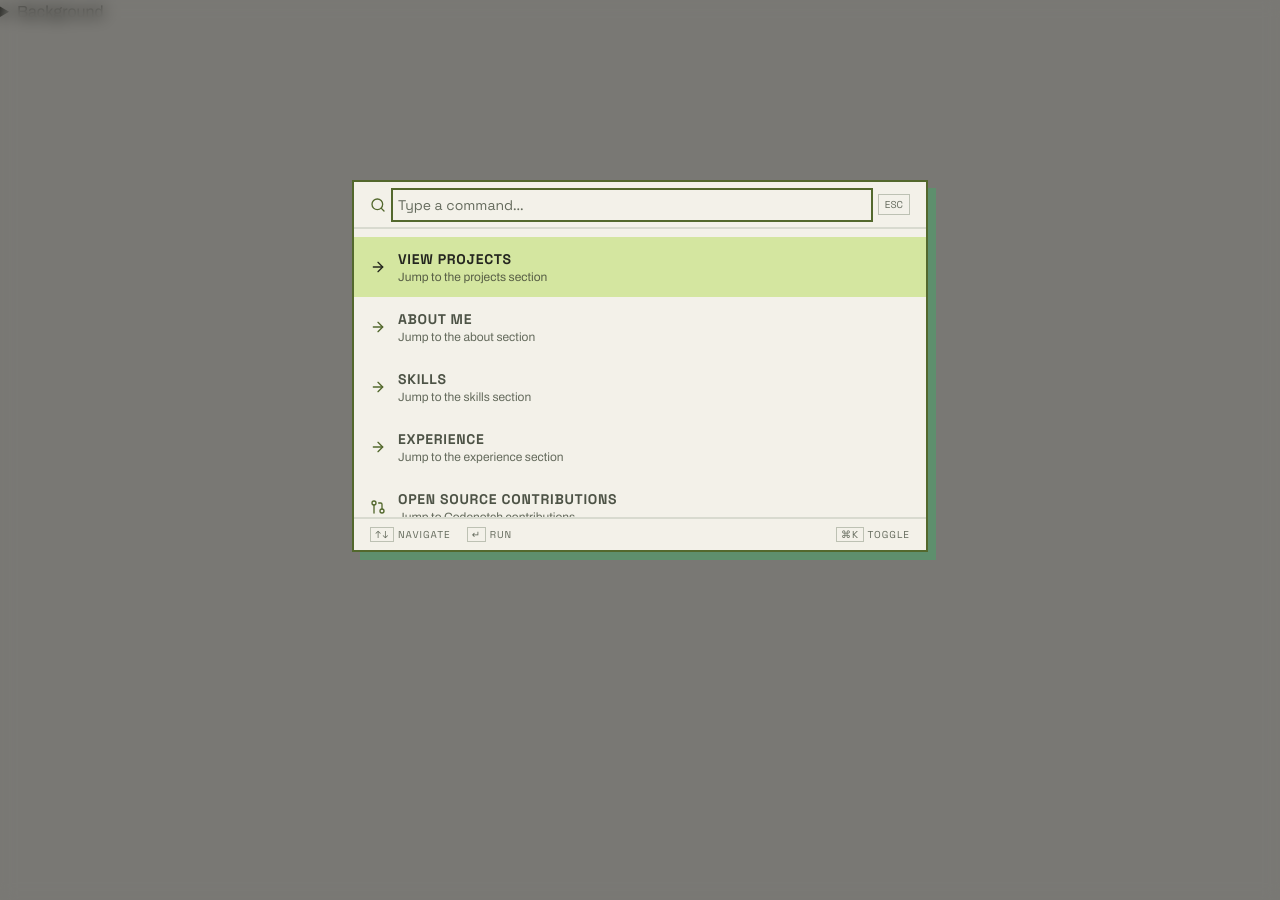
reveals background details through the shared section navigation
The width and height of the screenshot is (1280, 900).
Click the option "Open Source Contributions Jump to Codenotch contributions" at (494, 507), box [370,490,617,524]
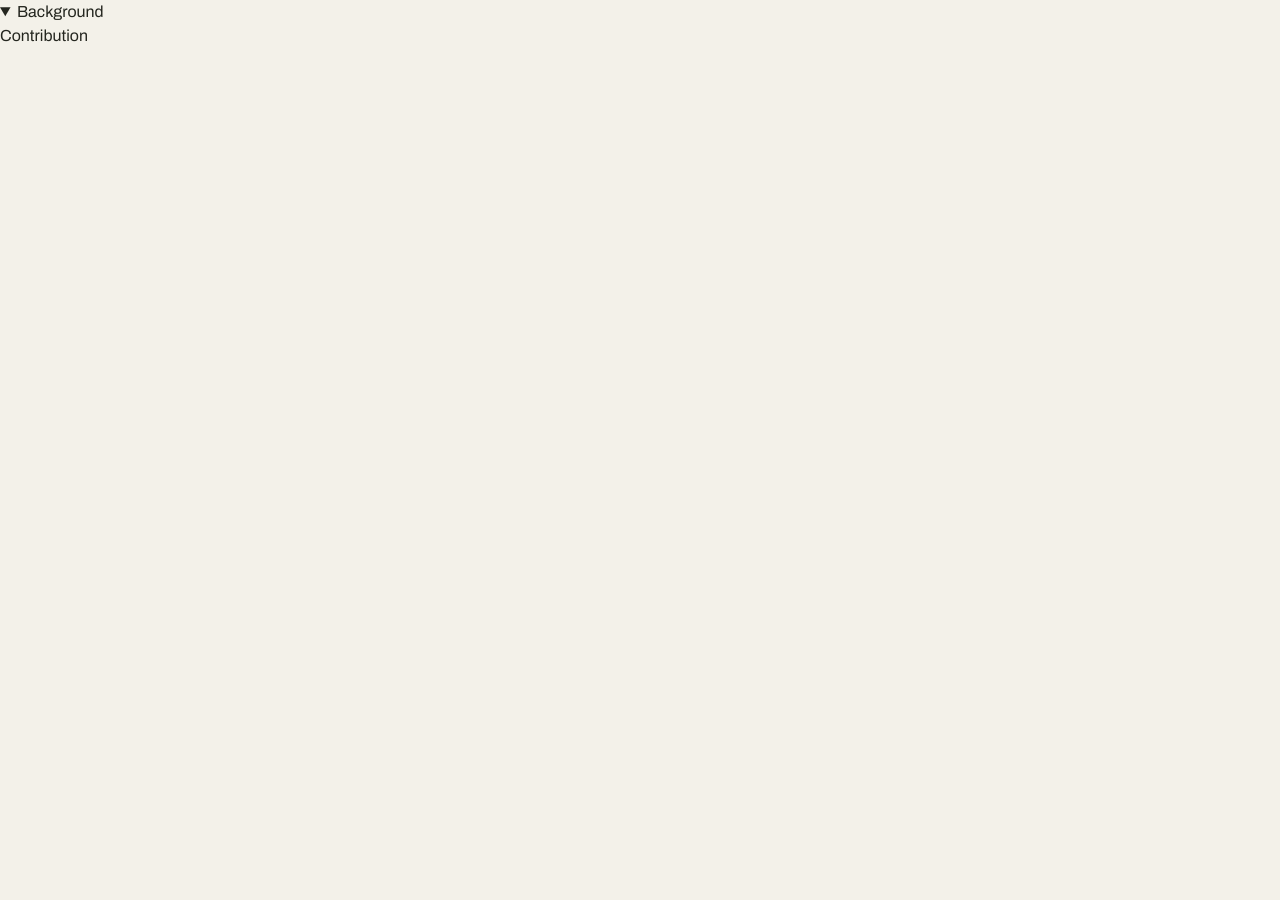
Expected: the dialog is gone
